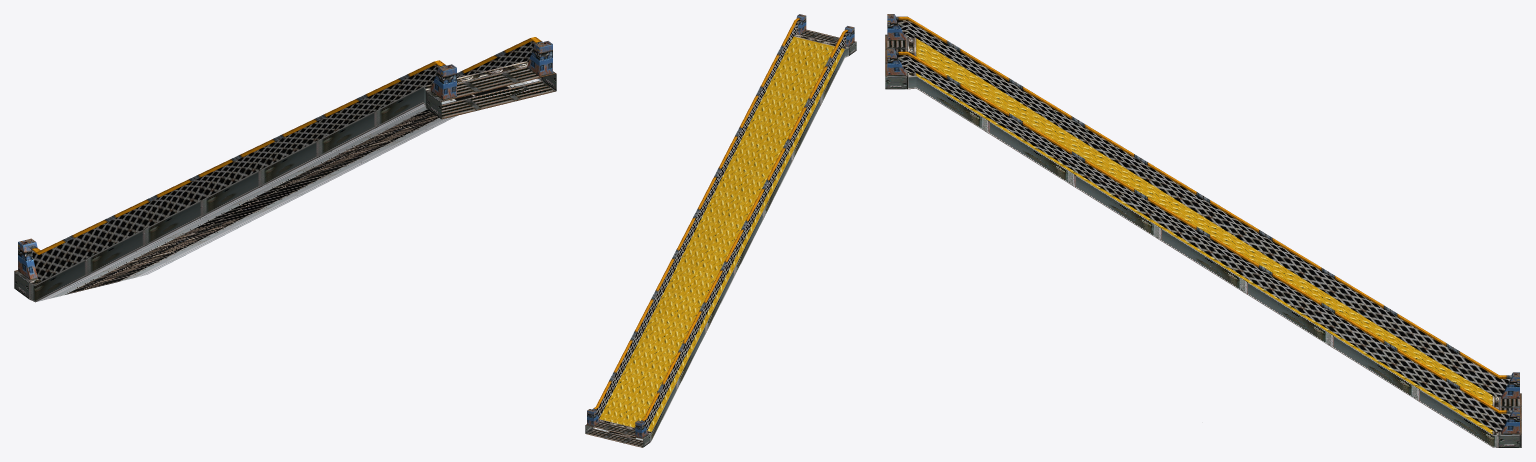
Rendered from PathDiagonal.obj.
The picture shows the model from 3 angles, left to right: view 1: azimuth 30°, elevation 25°; view 2: azimuth 150°, elevation 25°; view 3: azimuth 270°, elevation 25°; orthographic projection. The views are drawn at different scales.
Parts seen in each view (by area): view 1: PathDiagonal; view 2: PathDiagonal; view 3: PathDiagonal.
Part boxes in pixels (<box>): PathDiagonal: <box>14,37,556,302</box>; PathDiagonal: <box>585,14,856,447</box>; PathDiagonal: <box>885,14,1521,447</box>.
Bounding box in the file's own units: 37.41 × 164 × 241.
11 materials, 11 textured.
